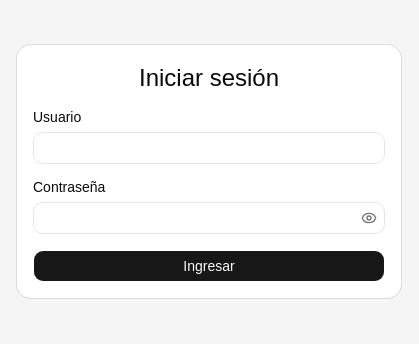
LoginPage › shows connection error, not invalid credentials, on a 500
Step 1. Type "admin" into the field labelled "Usuario" → x=209, y=148, box [33,132,385,164]
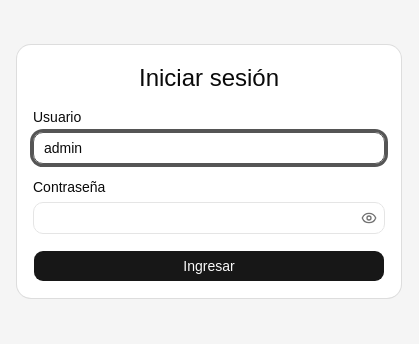
Step 2. Type "random" into the password field labelled "Contraseña" → x=209, y=218, box [33,202,385,234]
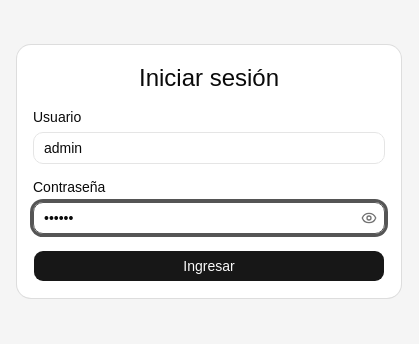
Step 3. Click the button "Ingresar" → x=209, y=266, box [33,250,385,282]
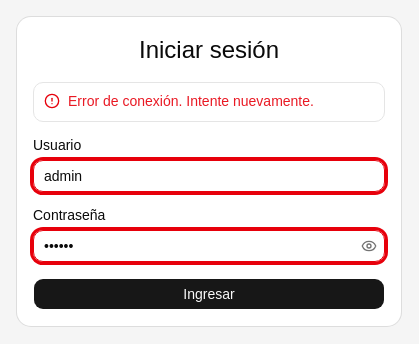
Expected: the text "Error de conexión. Intente nuevamente." is shown, [68,92,314,108]
